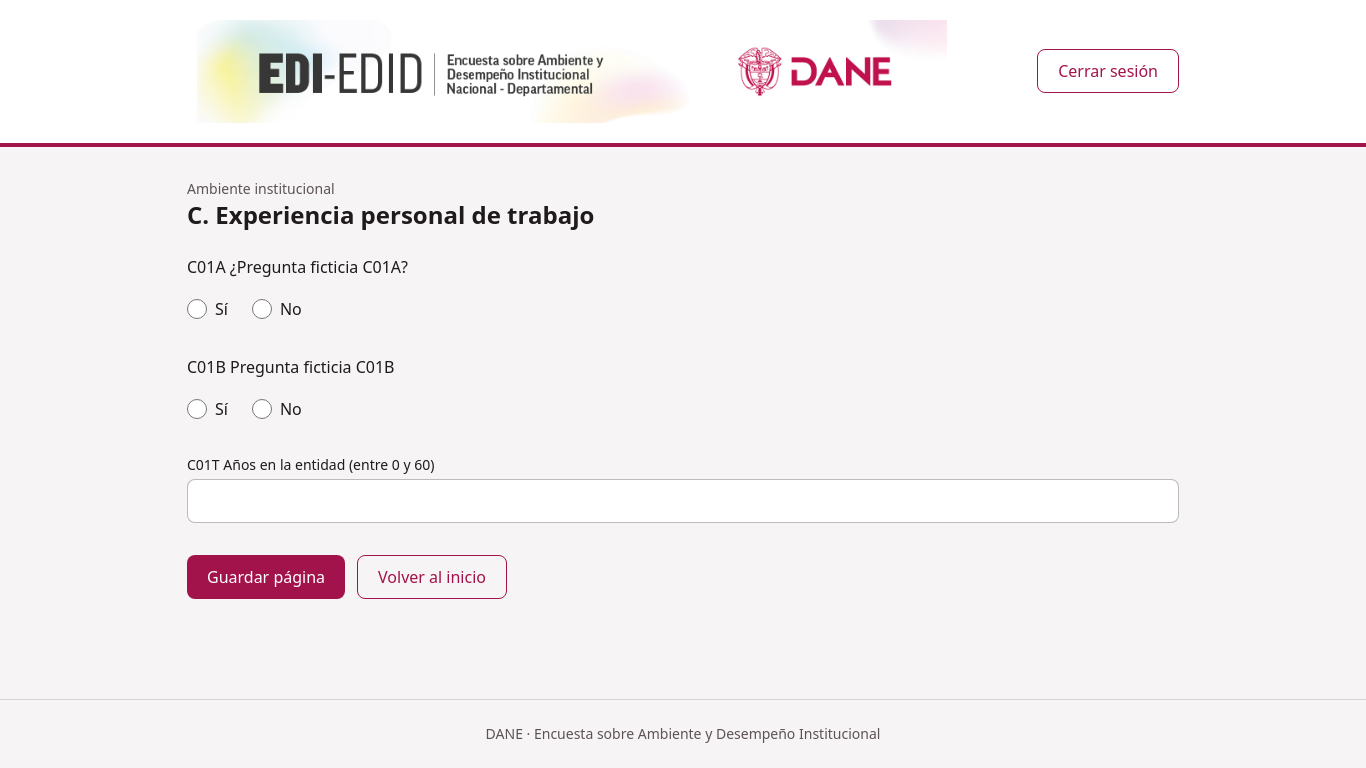
SurveyPageView › al salir de la página con respuestas sin guardar › "Volver al inicio" pide confirmar y "Seguir en la página" conserva las respuestas
Step 1. Type "12" into the field labelled "C01T Años en la entidad (entre 0 y 60)" → (683, 501), box x1=187 y1=479 x2=1179 y2=523
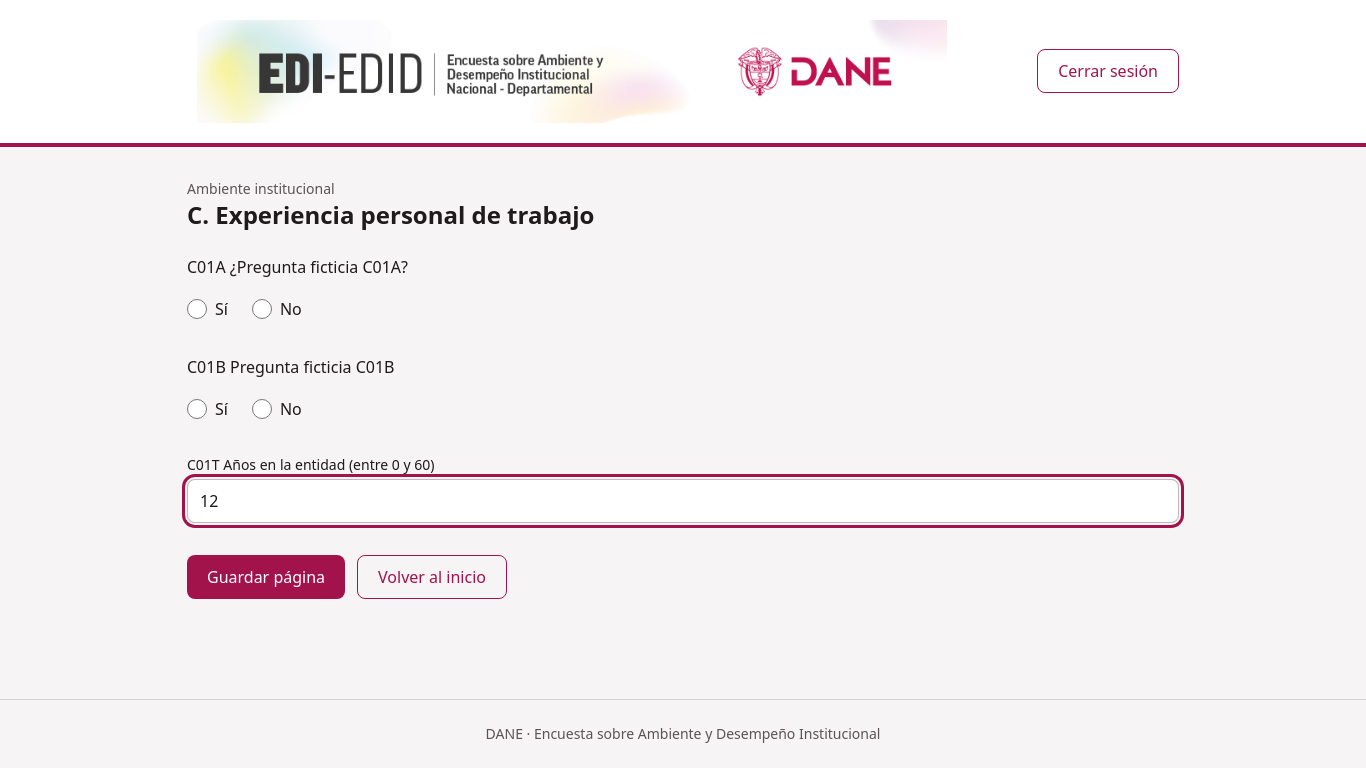
Step 2. Click the button "Volver al inicio" → (432, 577), box x1=357 y1=555 x2=507 y2=599
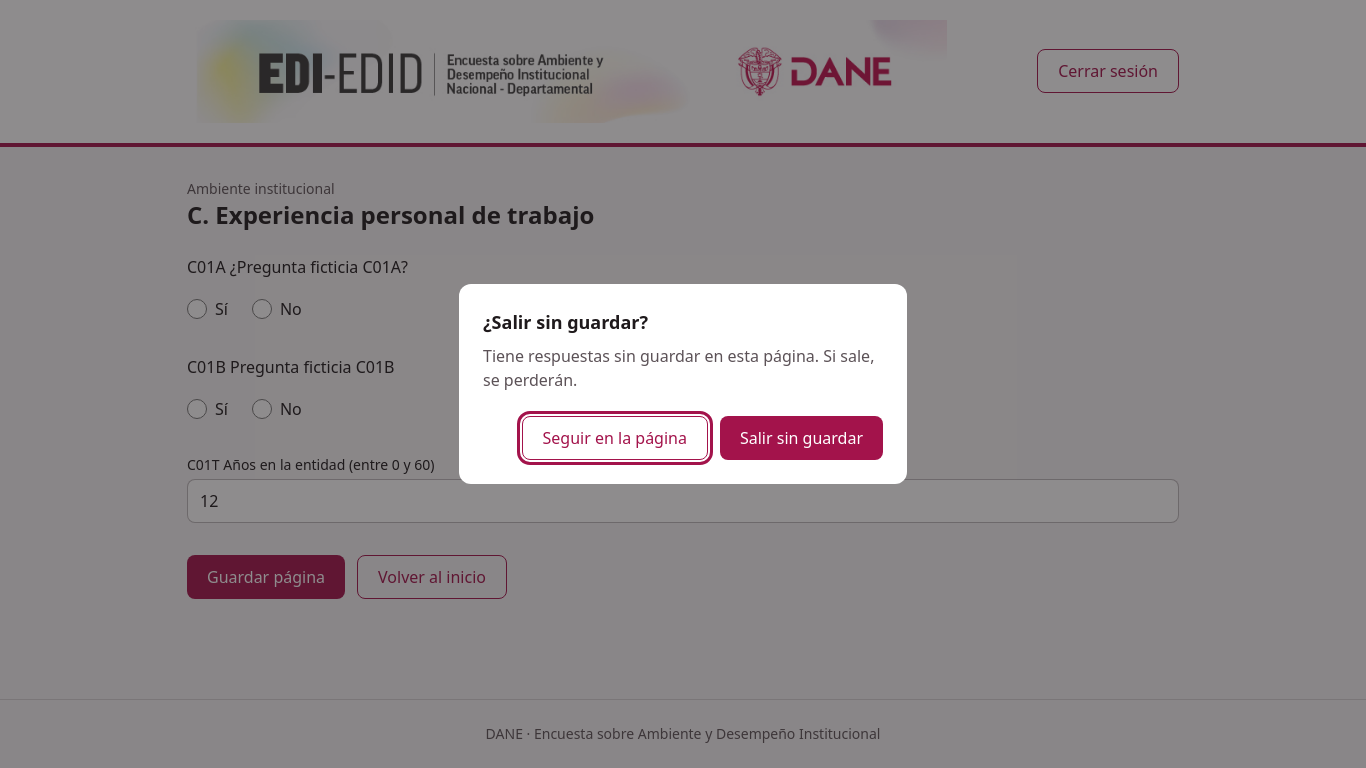
Now the dialog "¿Salir sin guardar?" shows "Tiene respuestas sin guardar en esta página. Si sale, se perderán.", box x1=483 y1=345 x2=874 y2=391
Step 3. Click the button "Seguir en la página" → (615, 438), box x1=522 y1=416 x2=708 y2=460
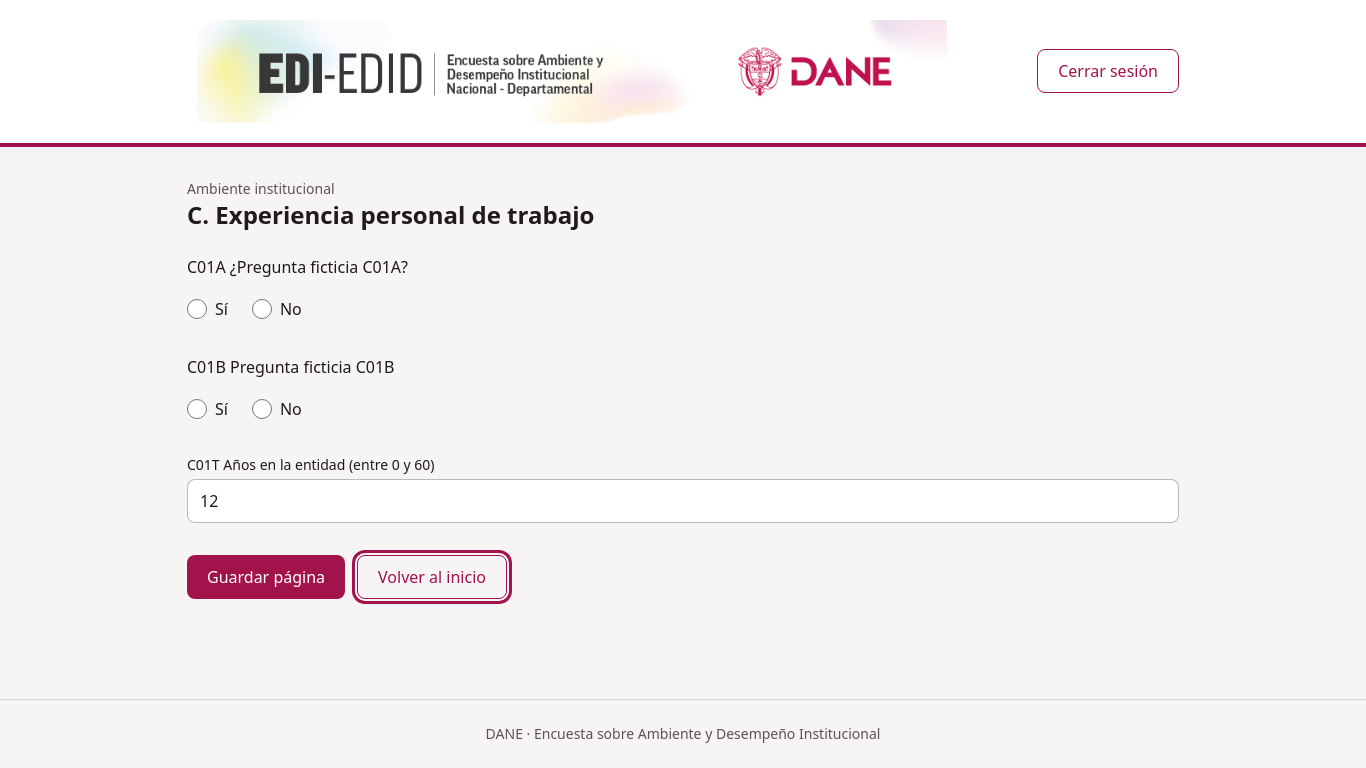
Expected: the heading "C. Experiencia personal de trabajo" is shown, x1=187 y1=198 x2=594 y2=231
Now the heading "¿Salir sin guardar?" is gone
